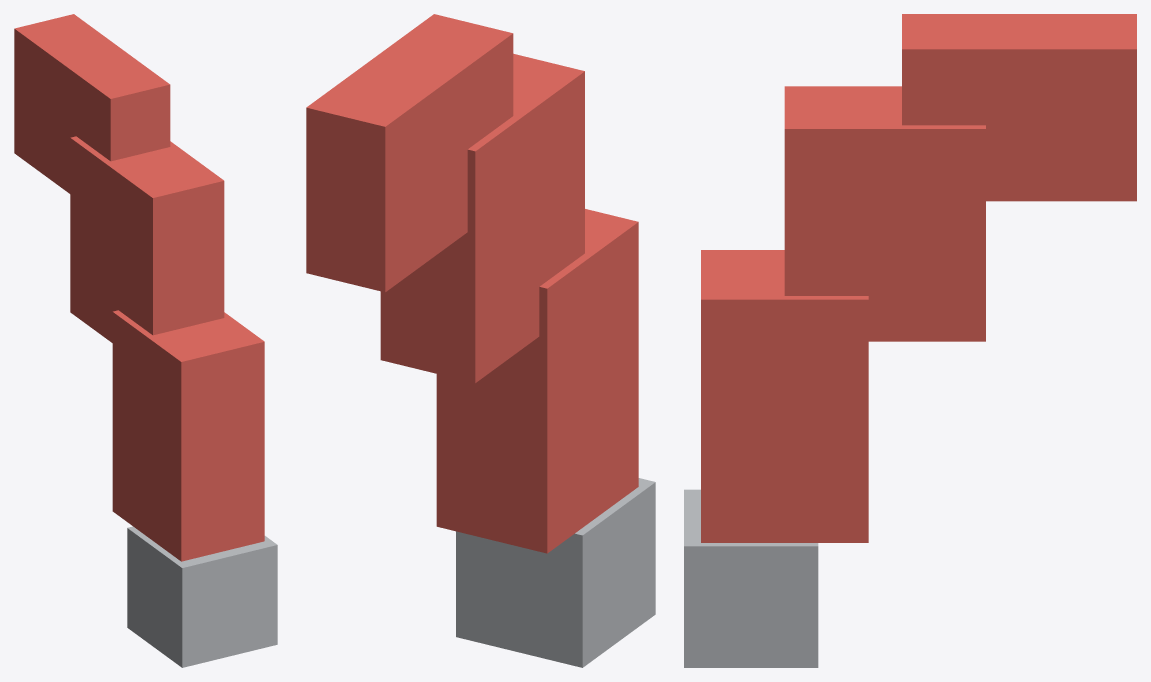
Rendered from plume.glb.
The picture shows the model from 3 angles, left to right: view 1: azimuth 30°, elevation 25°; view 2: azimuth 150°, elevation 25°; view 3: azimuth 270°, elevation 25°; orthographic projection. The views are drawn at different scales.
Visible parts, largest first — view 1: Plume; view 2: Plume; view 3: Plume.
Boxes of the visible parts, x1,y1,x2,y2 form: Plume: (14,14,277,667); Plume: (306,14,655,667); Plume: (684,14,1136,667).
Size of the model in its own units: 0.08 by 0.4 by 0.27.
